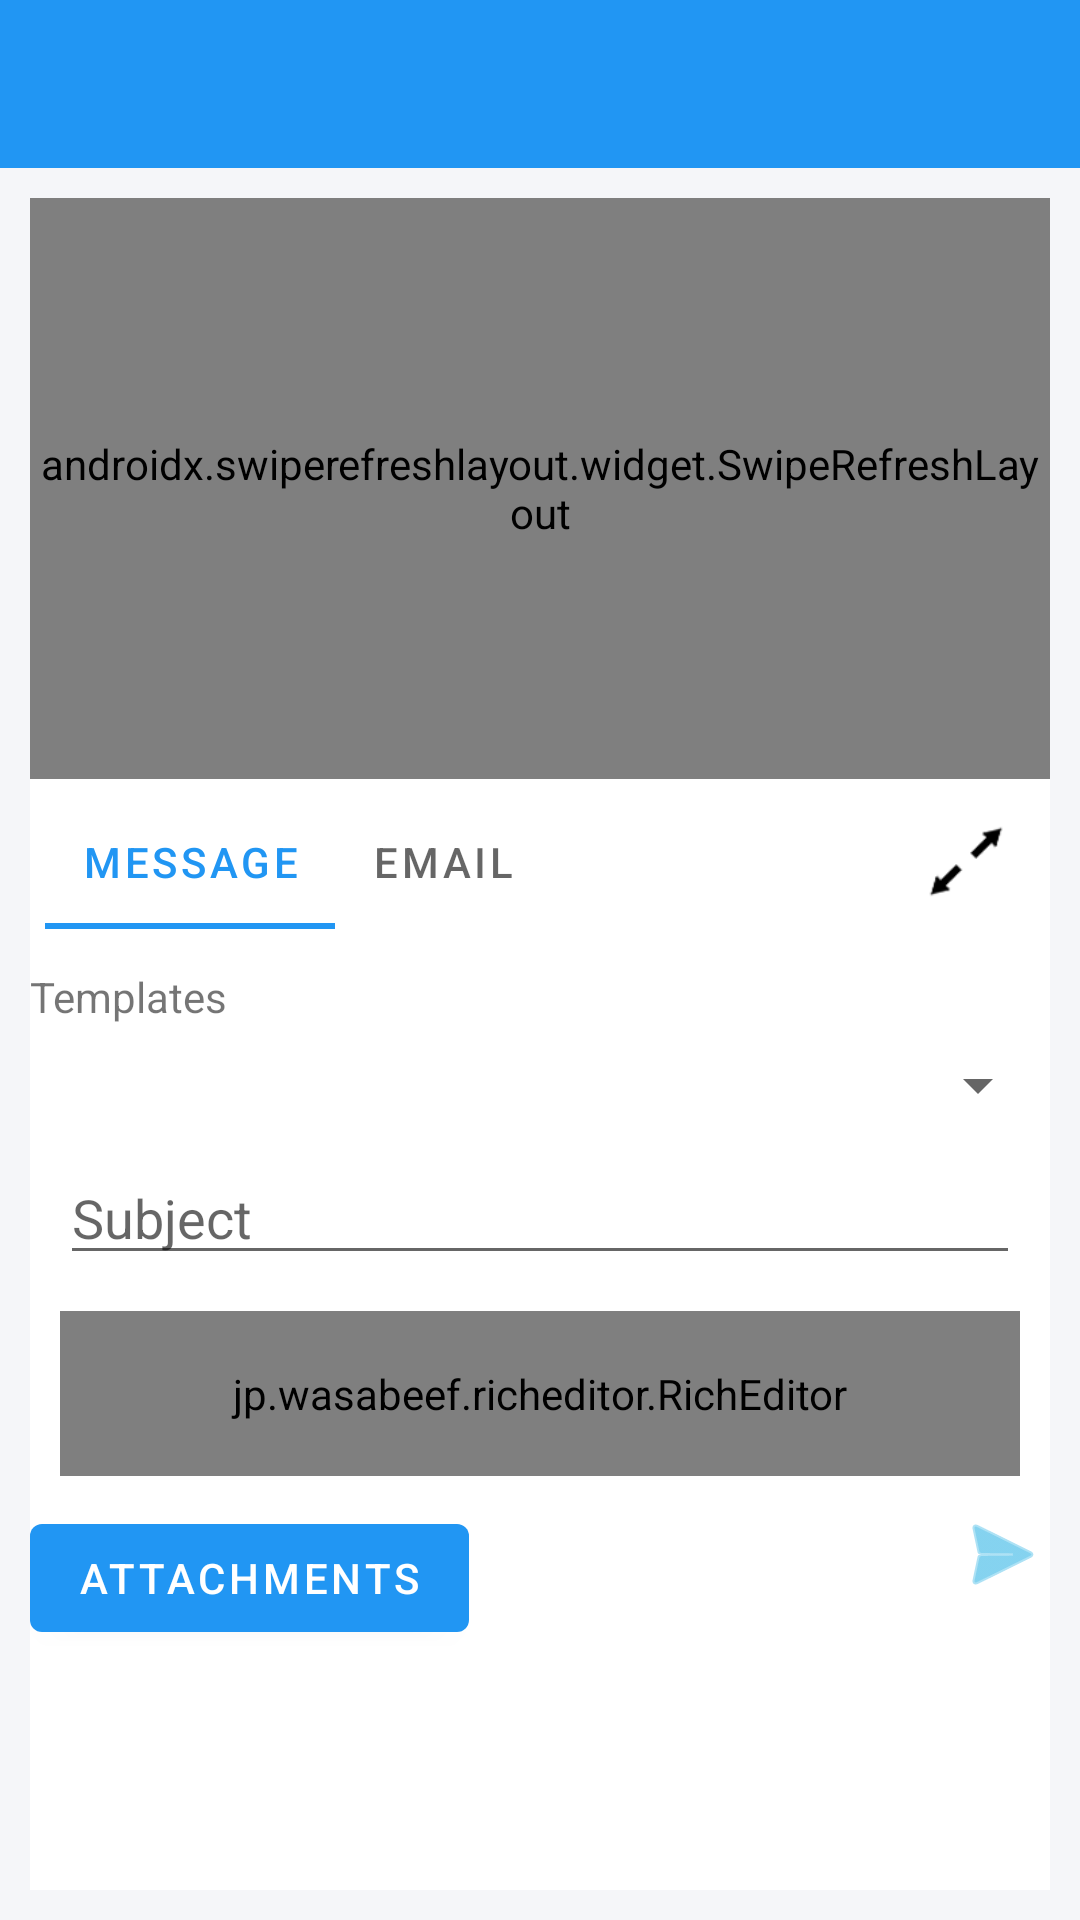

Screen size 1080 x 1920. Icon name, then its box in pixels as Rect(x1, y1, x2, y2):
expand email message: Rect(930, 827, 1003, 896)
Send Message: Rect(972, 1524, 1034, 1585)
